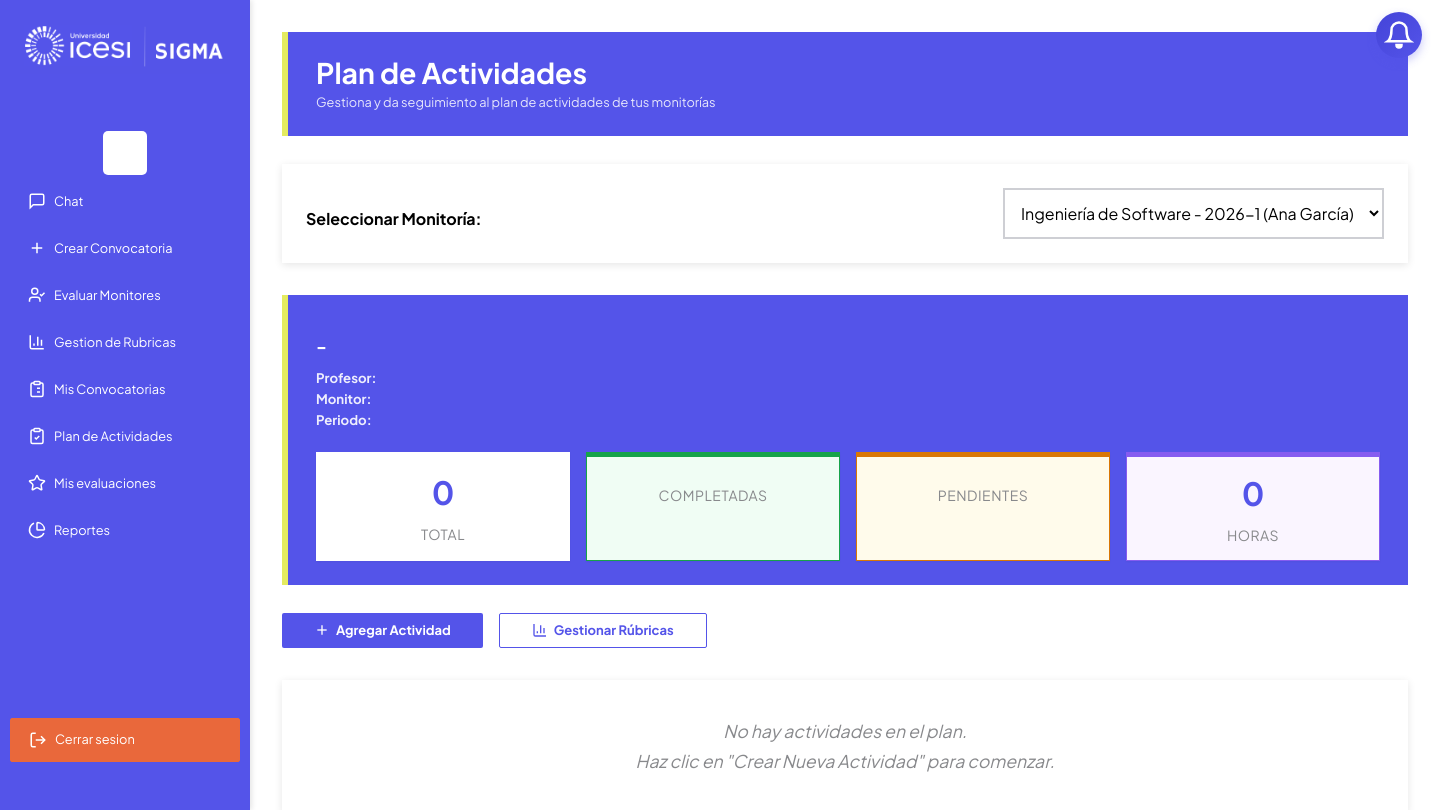
Scenario: ActividadesRegistroPlanVista › PlanActividades debe mostrar rúbricas en el formulario de actividad
The width and height of the screenshot is (1440, 810).
Expected: the text "No hay actividades en el plan." is shown, [723,720,967,742]
Click the button "Agregar Actividad" at (382, 630), box [282,613,483,648]
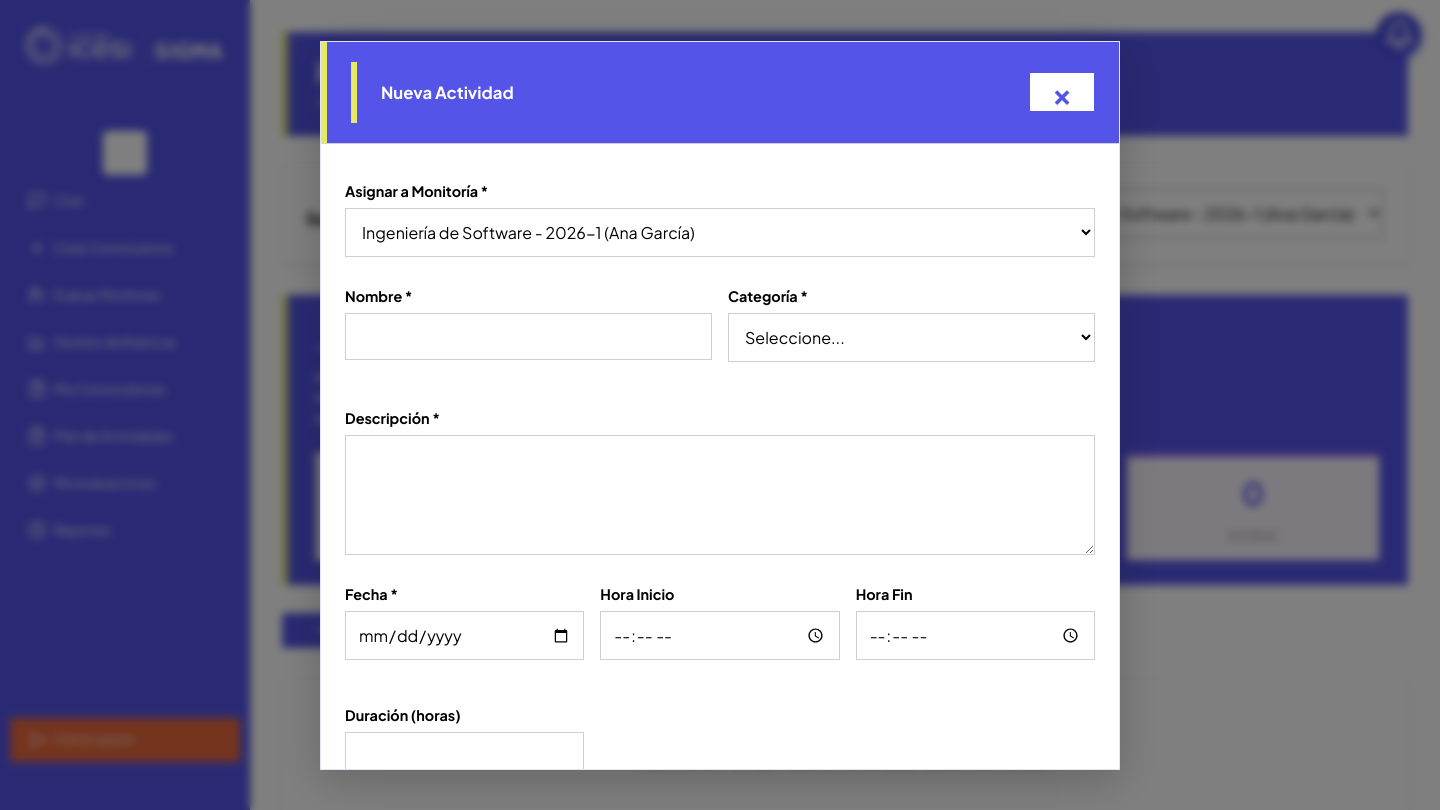
Result: the heading "Nueva Actividad" is shown at [351,62,538,122]
